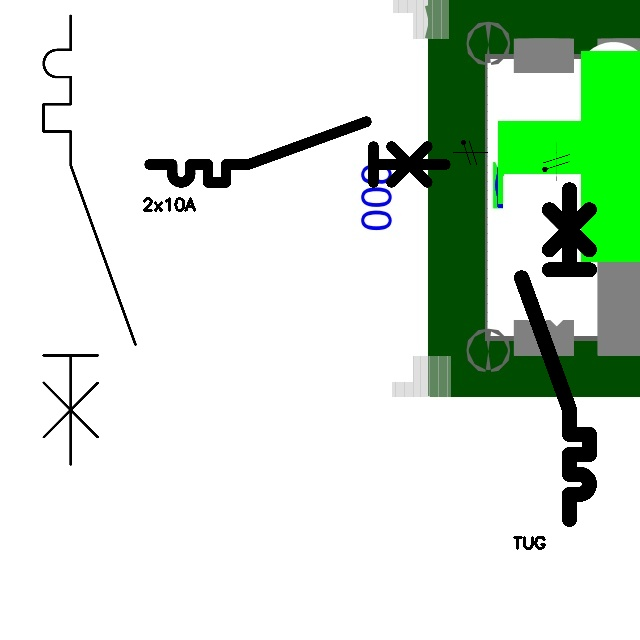interruptor_termomagnetico: (32, 4, 147, 476), (513, 181, 598, 528), (142, 114, 452, 190)
